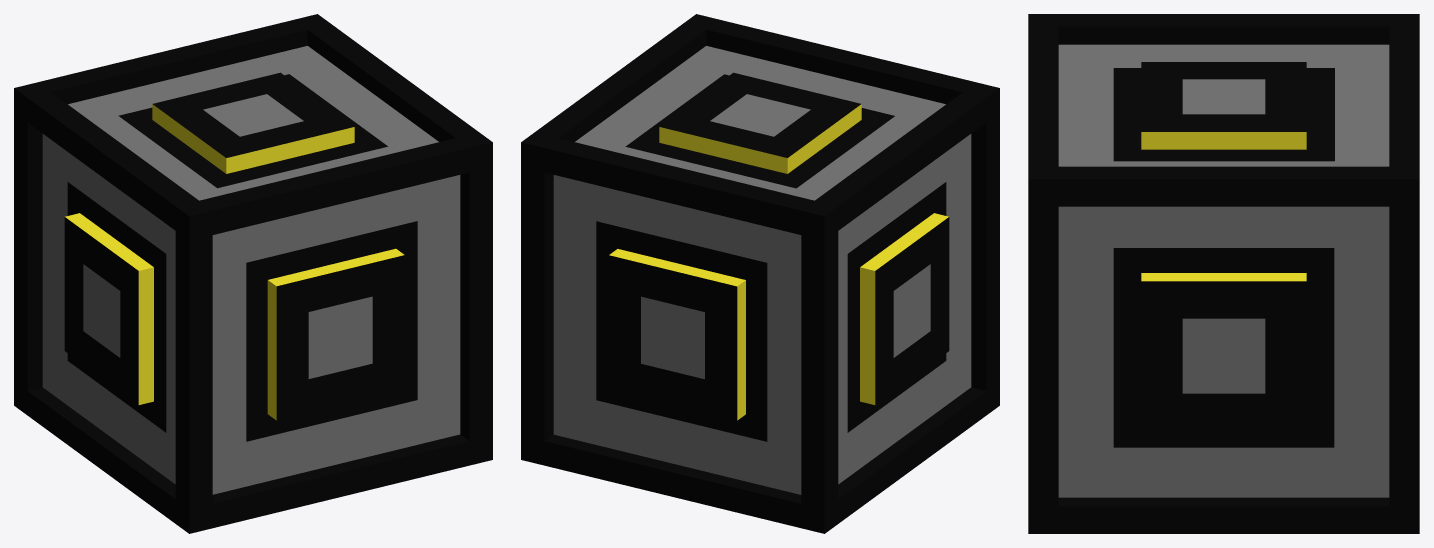
The model's file is Gold Cube.fbx.
The picture shows the model from 3 angles, left to right: view 1: azimuth 30°, elevation 25°; view 2: azimuth 150°, elevation 25°; view 3: azimuth 270°, elevation 25°; orthographic projection. The views are drawn at different scales.
Visible parts, largest first — view 1: Gold Cube; view 2: Gold Cube; view 3: Gold Cube.
Boxes of the visible parts, left/top/right/bottom form: Gold Cube: left=14, top=14, right=492, bottom=533; Gold Cube: left=521, top=14, right=999, bottom=533; Gold Cube: left=1028, top=14, right=1419, bottom=533.
Bounding box in the file's own units: 2 × 2 × 2.
